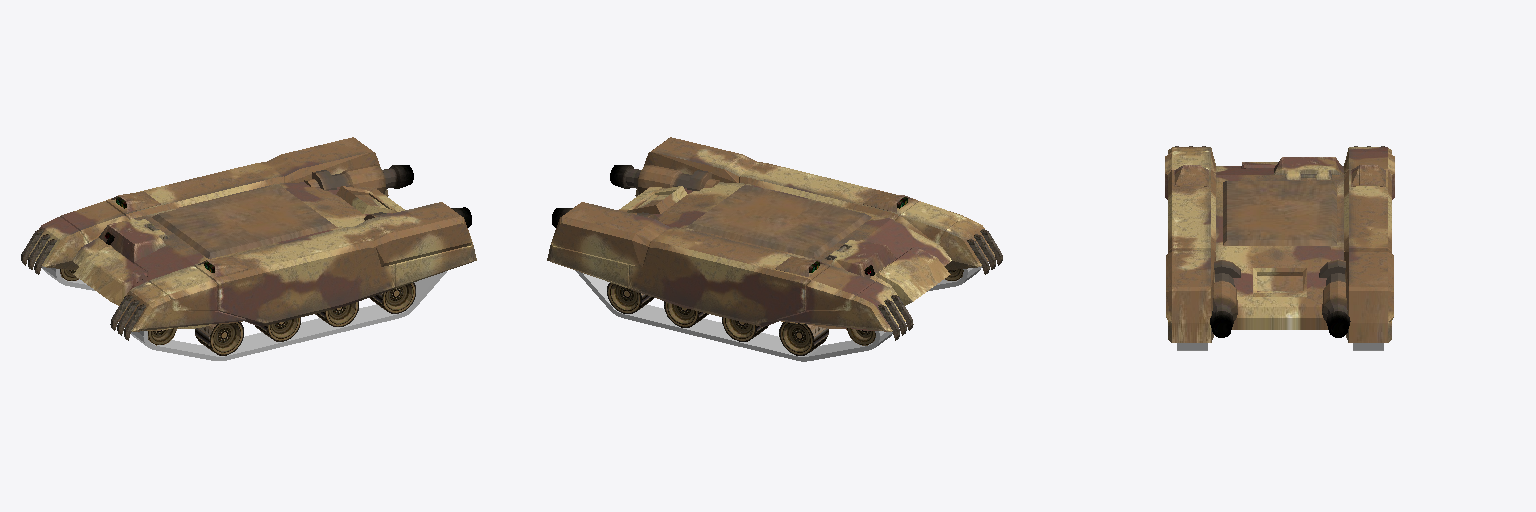
The picture shows the model from 3 angles: view 1: azimuth 30°, elevation 25°; view 2: azimuth 150°, elevation 25°; view 3: azimuth 270°, elevation 25°; orthographic projection.
Visible parts, largest first — view 1: V_Chassis.00, V_Tread_R.00, V_Wheel07.00, V_Wheel10.00, V_Wheel08.00, V_Wheel09.00; view 2: V_Chassis.00, V_Tread_L.00, V_Wheel02.00, V_Wheel05.00, V_Wheel04.00, V_Wheel03.00; view 3: V_Chassis.00.
Part boxes in pixels (bbox=[...]): V_Chassis.00: bbox=[21, 137, 476, 340]; V_Tread_R.00: bbox=[131, 271, 446, 360]; V_Wheel07.00: bbox=[195, 322, 243, 355]; V_Wheel10.00: bbox=[370, 283, 415, 313]; V_Wheel08.00: bbox=[255, 317, 300, 341]; V_Wheel09.00: bbox=[315, 302, 358, 326]; V_Chassis.00: bbox=[547, 137, 1002, 340]; V_Tread_L.00: bbox=[575, 270, 892, 361]; V_Wheel02.00: bbox=[779, 322, 828, 355]; V_Wheel05.00: bbox=[607, 283, 653, 313]; V_Wheel04.00: bbox=[664, 301, 708, 327]; V_Wheel03.00: bbox=[722, 317, 768, 341]; V_Chassis.00: bbox=[1165, 146, 1394, 342].
Size of the model in its own units: 46.71 by 11.51 by 25.37.
2 materials, 1 textured.